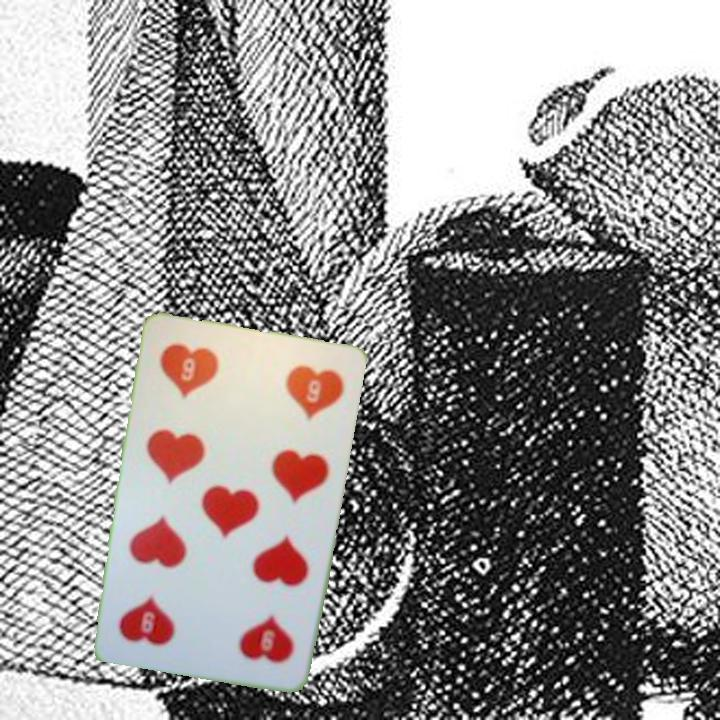h_9.png: (144, 328, 257, 429), (197, 576, 309, 677)
